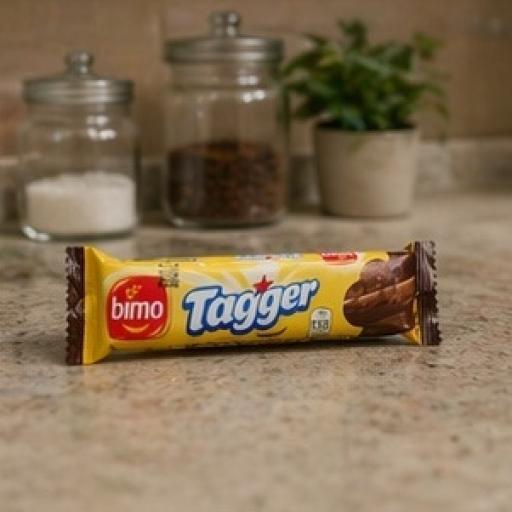tagger: (46, 203, 481, 384)
